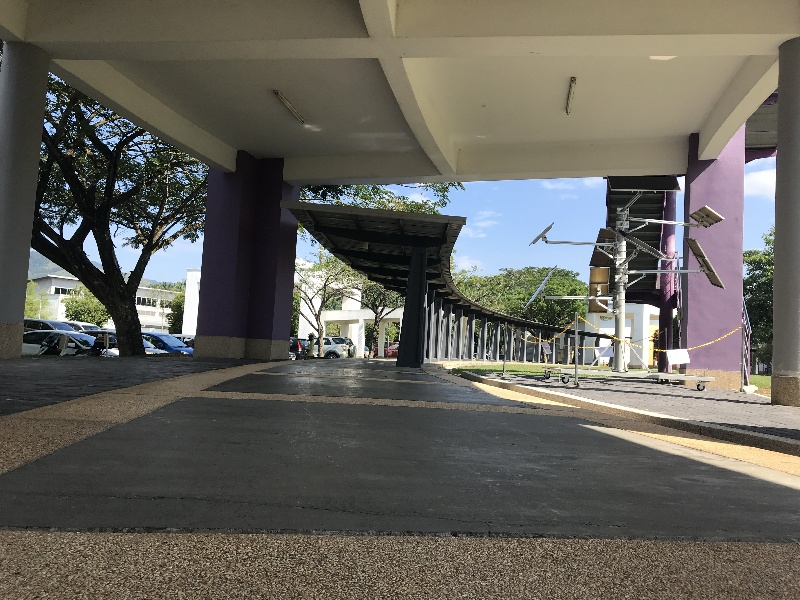pillar: (187, 149, 300, 378), (680, 125, 760, 407), (399, 242, 430, 379)
